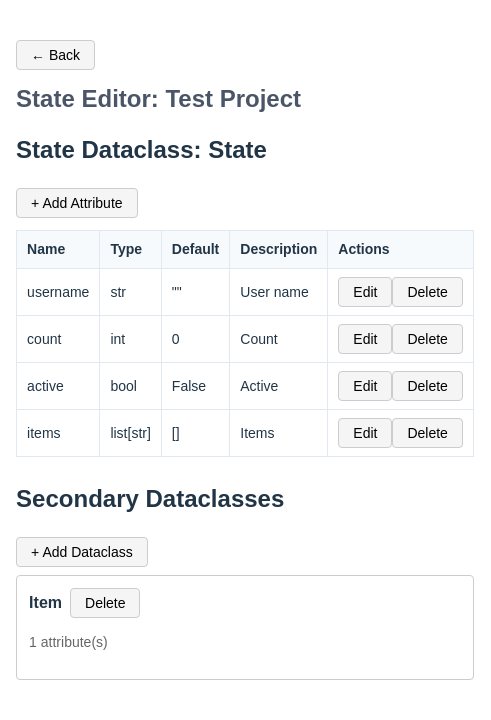
Test: StateEditor adds new secondary dataclass
Click the button "+ Add Dataclass". click: [82, 552]
box: [16,537,148,567]
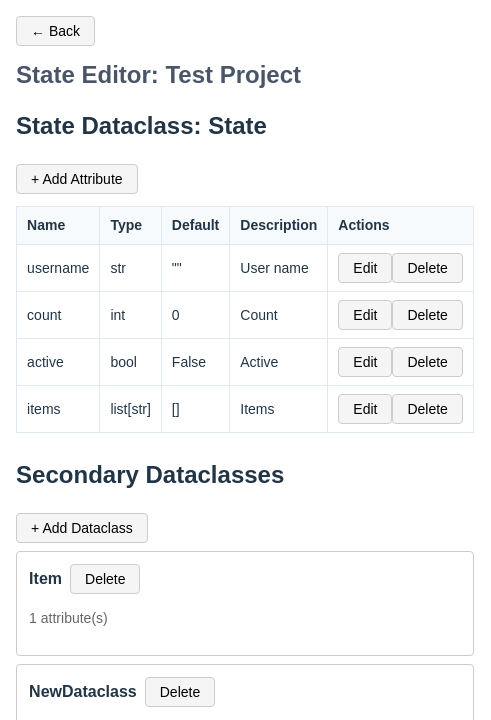
Now the text "1 attribute(s)" is shown 2 times
